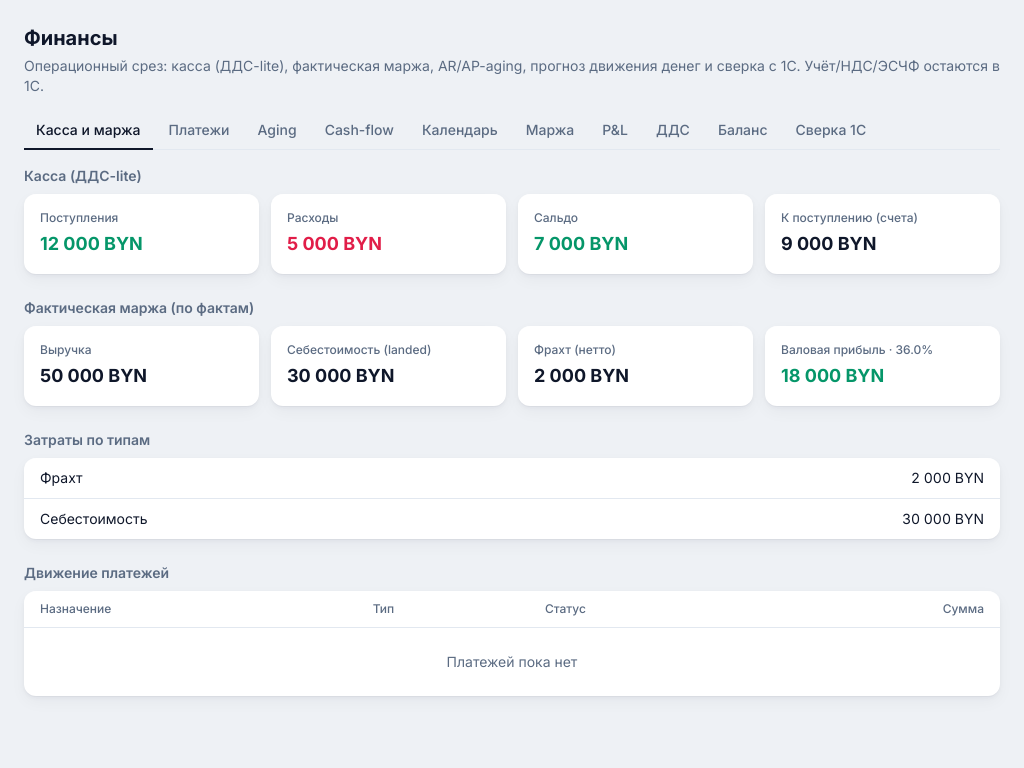
Test: FinanceView › вкладка «Баланс» рендерит активы/пассивы и «нет связи с 1С» для пустых полей
The image size is (1024, 768).
Expected: the heading "Касса (ДДС-lite)" is shown, x1=24 y1=167 x2=142 y2=184
Click the button "Баланс" at (743, 131), box x1=706 y1=112 x2=780 y2=150
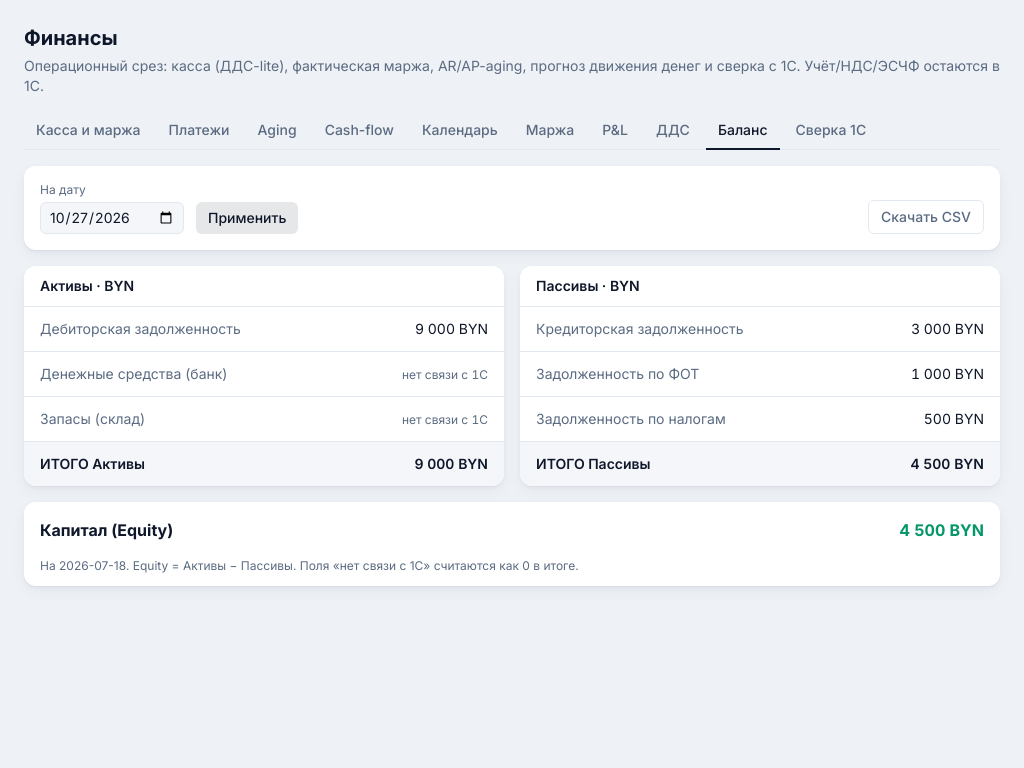
Expected: the text "Дебиторская задолженность" is shown, x1=24 y1=307 x2=342 y2=352
Expected: the text "ИТОГО Активы" is shown, x1=24 y1=442 x2=342 y2=486
Expected: the text "Капитал (Equity)" is shown, x1=24 y1=502 x2=597 y2=558
